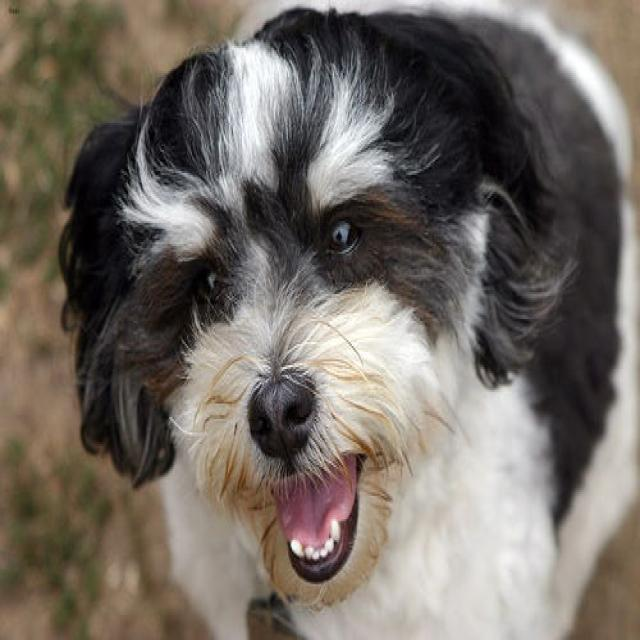dog-havanese: (46, 2, 637, 636)
